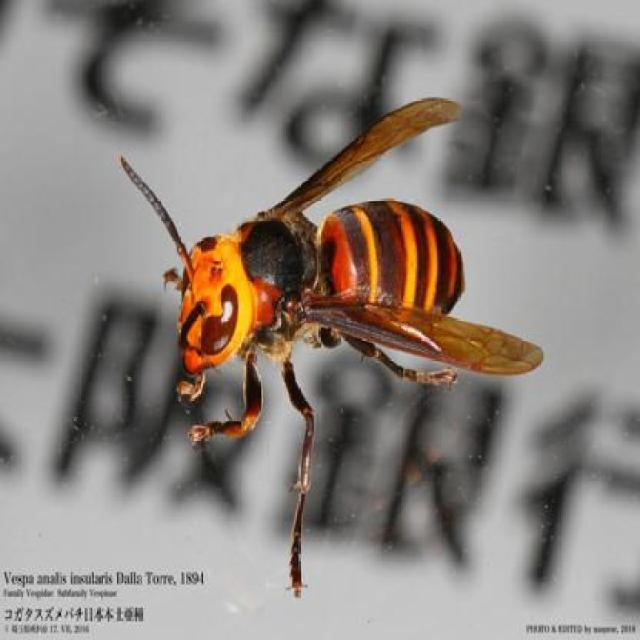Wasp: (110, 75, 550, 601)
